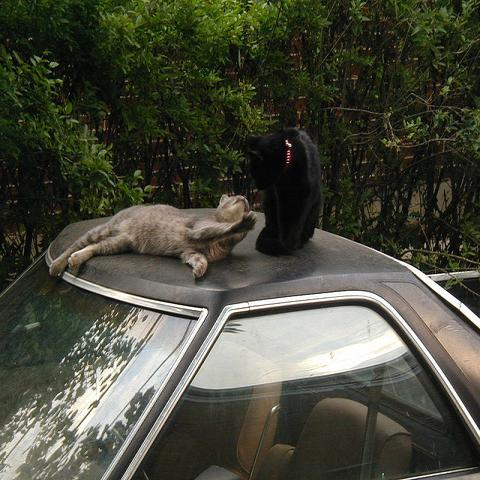car: (0, 215, 480, 473)
